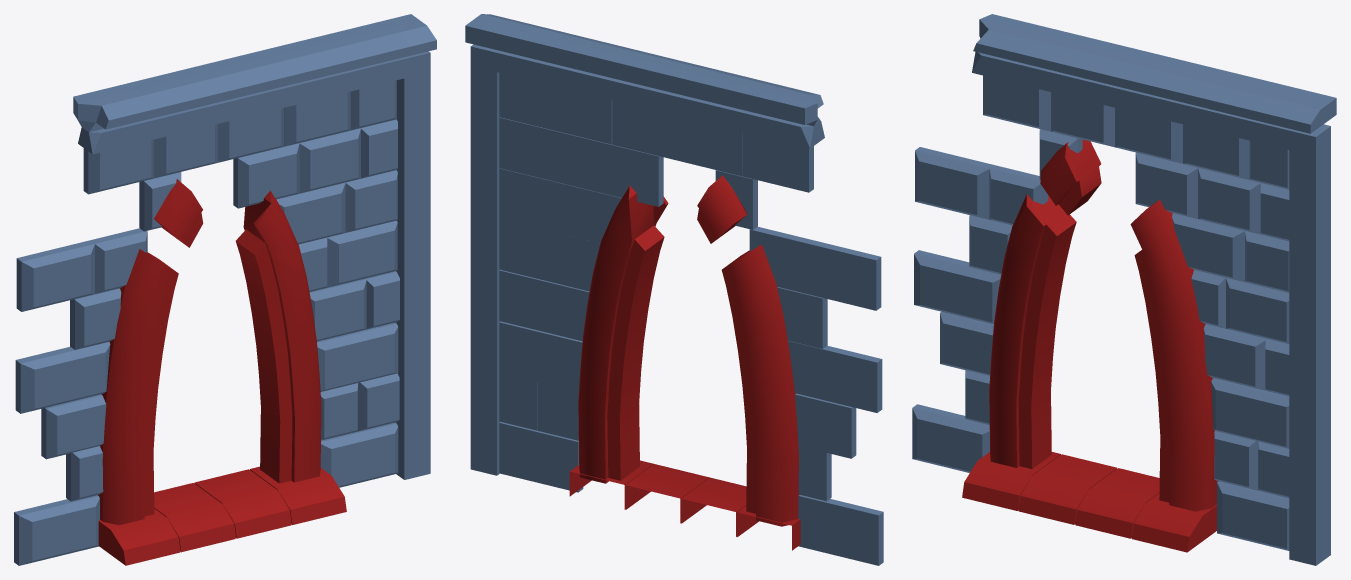
Rendered from Ruins_Window_4.FBX.
The picture shows the model from 3 angles, left to right: view 1: azimuth 30°, elevation 25°; view 2: azimuth 150°, elevation 25°; view 3: azimuth 330°, elevation 25°; orthographic projection.
Visible parts, largest first — view 1: Box041, Box040; view 2: Box041, Box040; view 3: Box041, Box040.
Boxes of the visible parts, x1,y1,x2,y2 form: Box041: [14, 14, 436, 565]; Box040: [98, 179, 346, 565]; Box041: [465, 14, 883, 565]; Box040: [569, 175, 800, 550]; Box041: [912, 14, 1336, 565]; Box040: [962, 139, 1218, 552].
Size of the model in its own units: 59.5 by 62.59 by 10.85.
